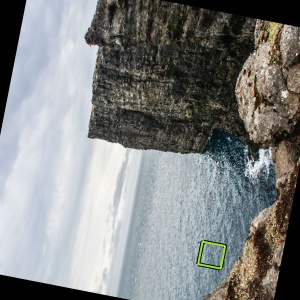square: (195, 239, 227, 271)
